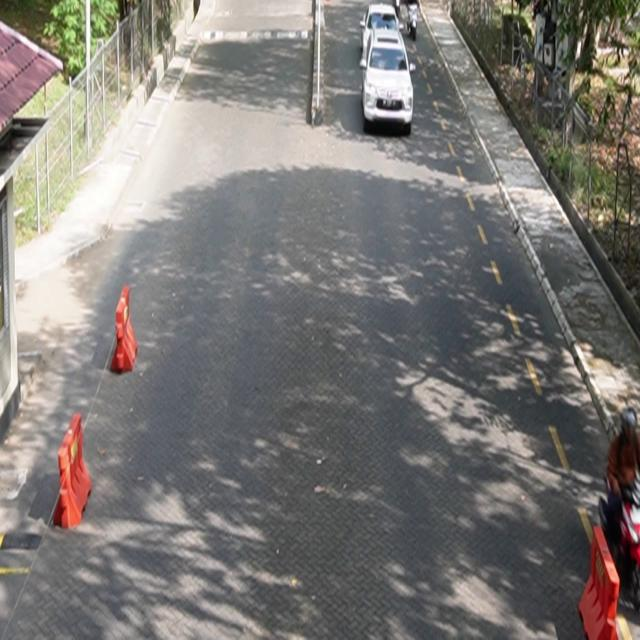car: (360, 28, 416, 136)
